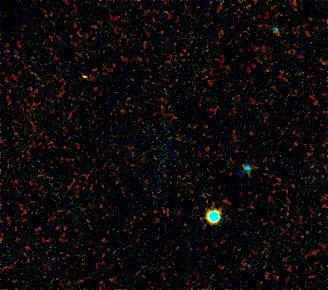star: (63, 65, 93, 95)
